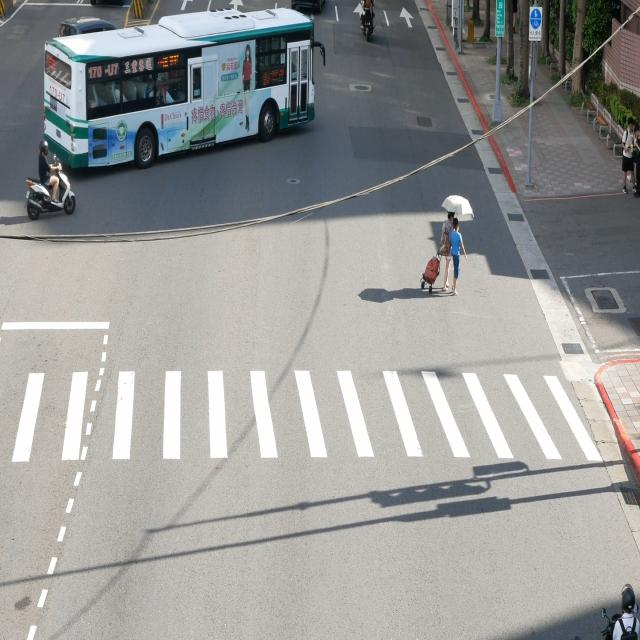pedestrian: (440, 213, 466, 295), (421, 251, 440, 292)
